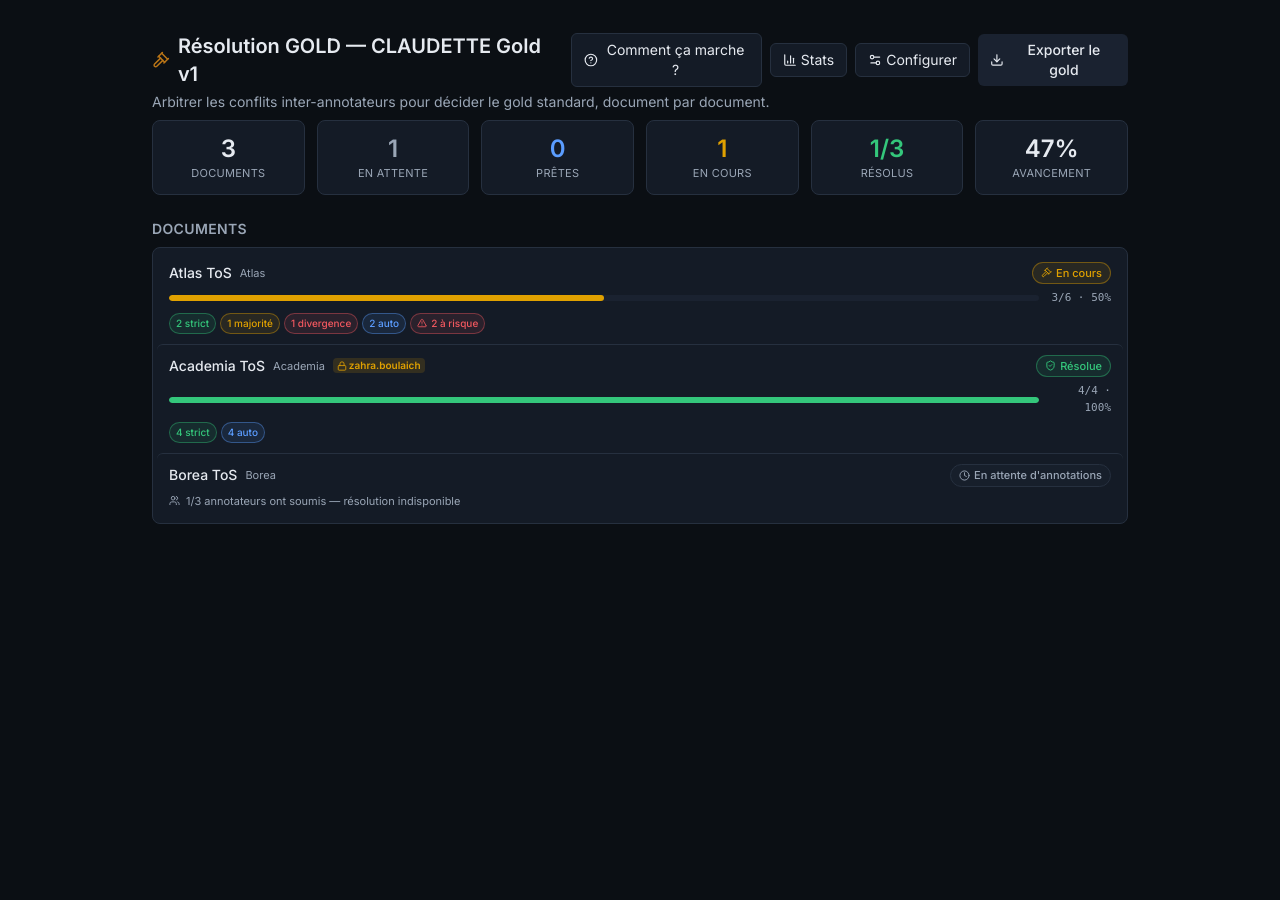
it: GoldCockpit › ouvre et ferme la modale « Comment ça marche ? »
Expected: the element with test id "gold-cockpit" is shown, [128, 0, 1152, 556]
What coordinates should you click on to do the following:
click the button with test id "gold-help-open"
I would click on:
 (667, 60)
Its box is [571, 33, 762, 87].
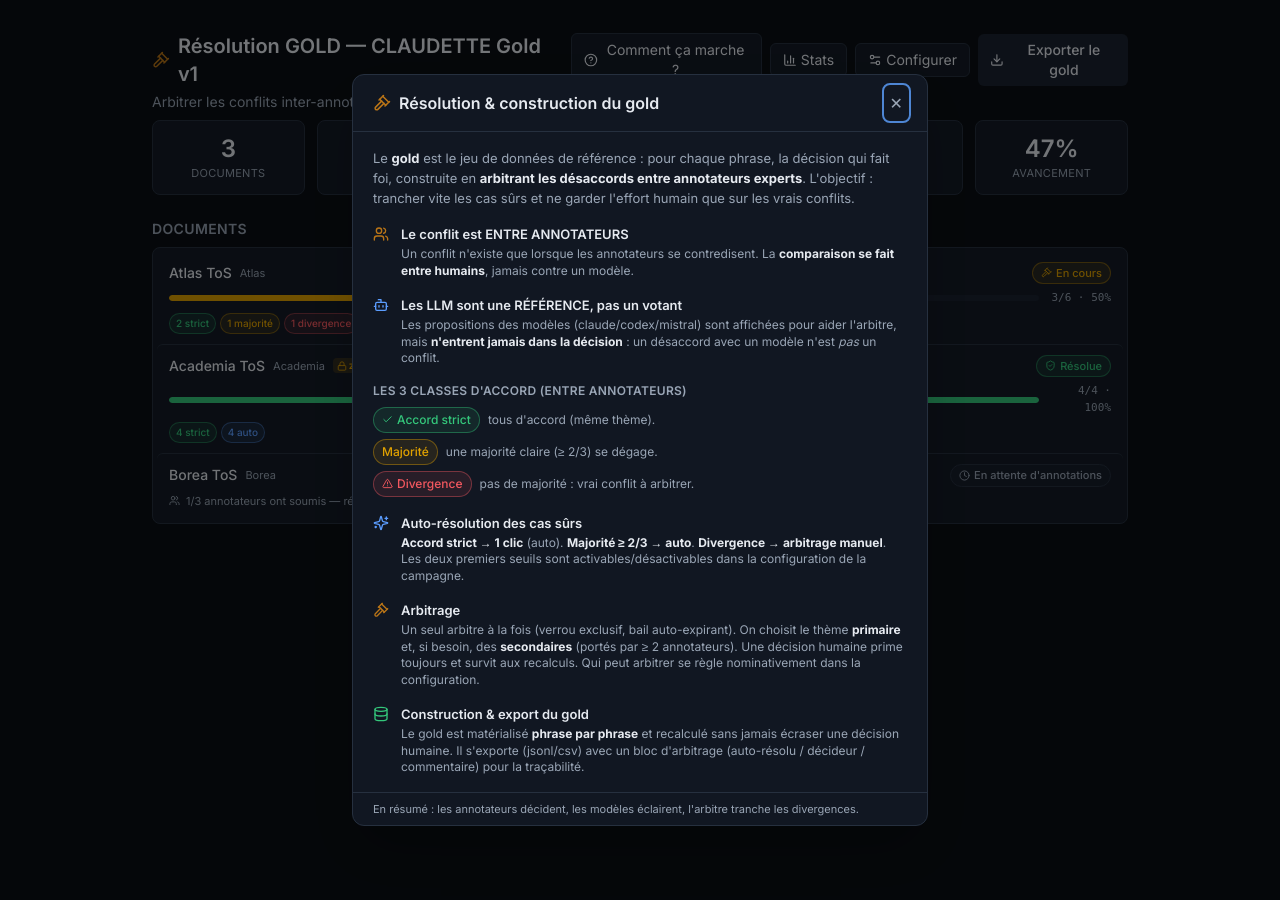
Expected: the dialog with test id "gold-help-modal" is shown, [352, 74, 928, 826]
What coordinates should you click on to do the following:
click the button with test id "gold-help-close"
I would click on:
 (896, 103)
Its box is [886, 87, 907, 119].
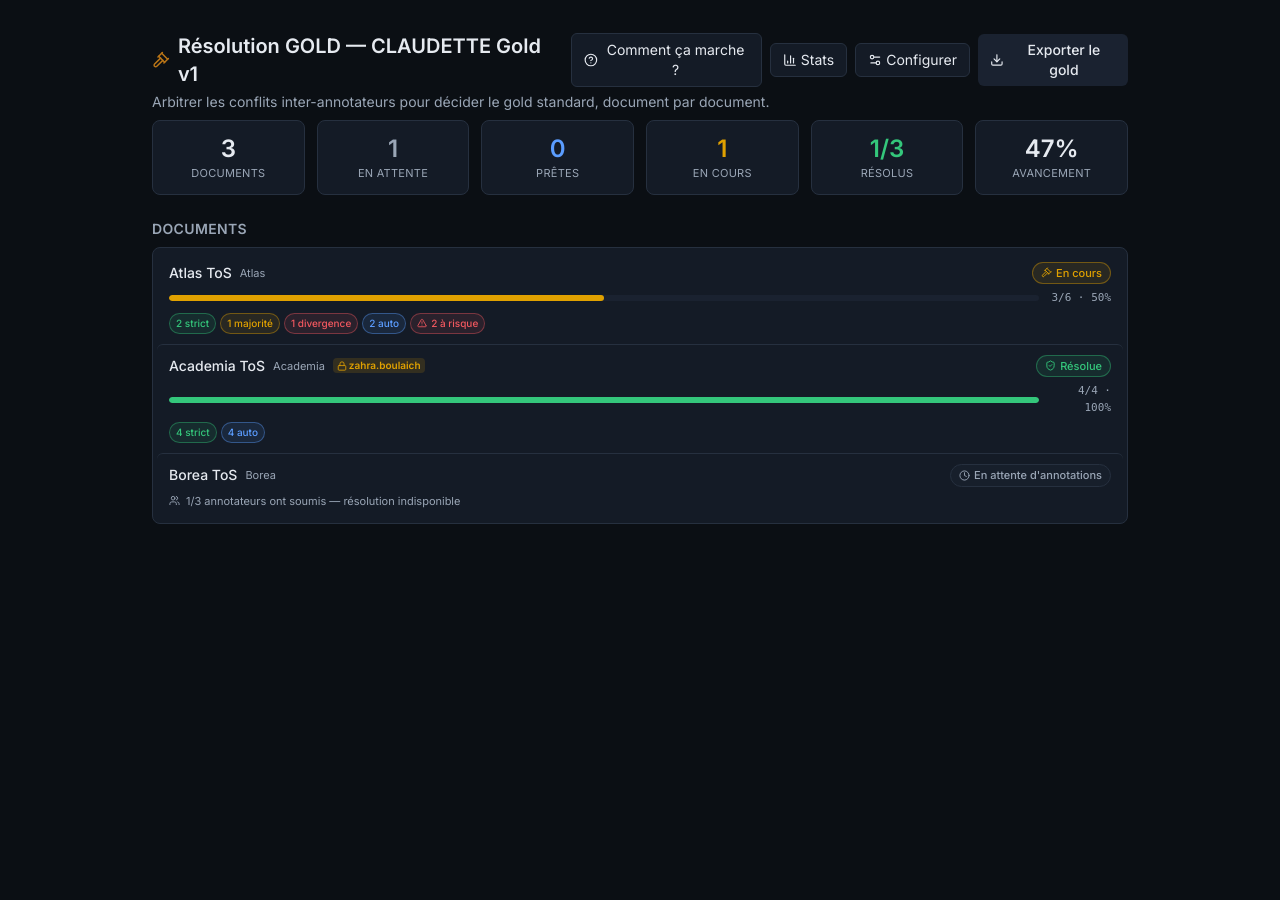
Expected: the dialog with test id "gold-help-modal" is gone
